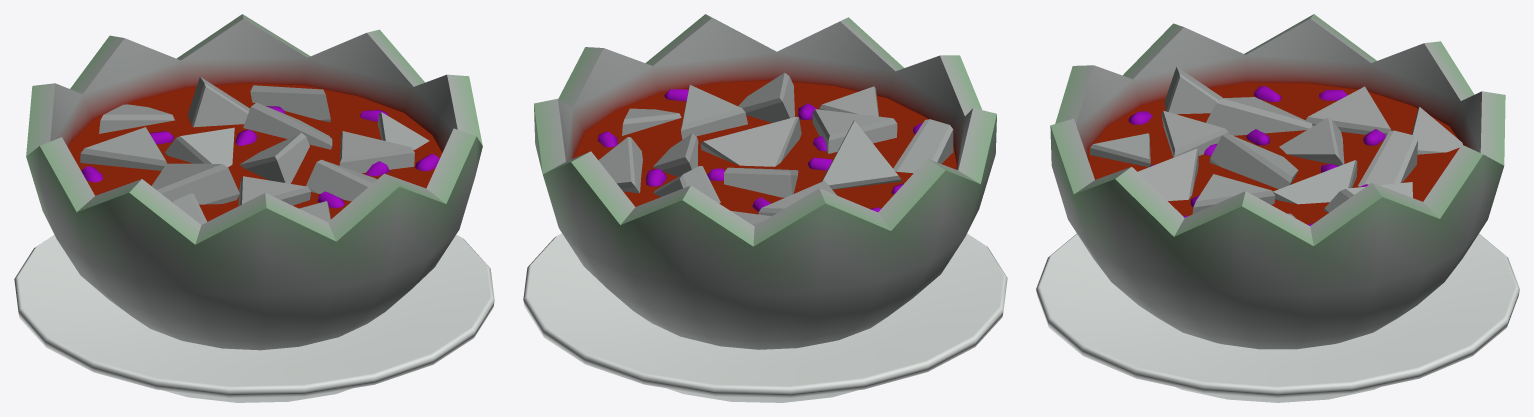
The picture shows the model from 3 angles, left to right: view 1: azimuth 30°, elevation 25°; view 2: azimuth 150°, elevation 25°; view 3: azimuth 270°, elevation 25°; orthographic projection.
Visible parts, largest first — view 1: G:\FFXIV-MapTools\exports\y6f3\bg\ex5\02_ykt_y6\fld\y6f3\bgp (×5); view 2: G:\FFXIV-MapTools\exports\y6f3\bg\ex5\02_ykt_y6\fld\y6f3\bgp (×5); view 3: G:\FFXIV-MapTools\exports\y6f3\bg\ex5\02_ykt_y6\fld\y6f3\bgp (×5).
Boxes of the visible parts, x1,y1,x2,y2 form: G:\FFXIV-MapTools\exports\y6f3\bg\ex5\02_ykt_y6\fld\y6f3\bgp (×5): [14, 14, 494, 402]; G:\FFXIV-MapTools\exports\y6f3\bg\ex5\02_ykt_y6\fld\y6f3\bgp (×5): [523, 14, 1007, 402]; G:\FFXIV-MapTools\exports\y6f3\bg\ex5\02_ykt_y6\fld\y6f3\bgp (×5): [1036, 14, 1519, 402].
Size of the model in its own units: 0.5674 by 0.2962 by 0.5674.
